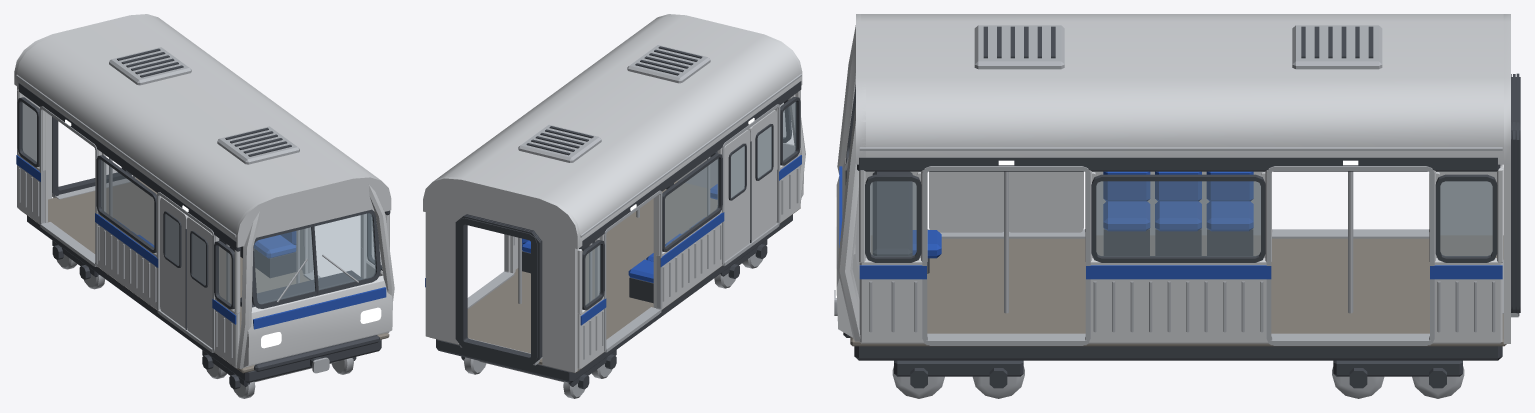
Rendered from MetroCab.glb.
The picture shows the model from 3 angles, left to right: view 1: azimuth 30°, elevation 25°; view 2: azimuth 150°, elevation 25°; view 3: azimuth 270°, elevation 25°; orthographic projection. The views are drawn at different scales.
Parts seen in each view (by area): view 1: MetroCab_TrainBody, MetroCab_TrainDark, MetroCab_Glass, MetroCab_Stainless, MetroCab_Granite, MetroCab_Stripe, MetroCab_Seat, MetroCab_GlowWarm; view 2: MetroCab_TrainBody, MetroCab_TrainDark, MetroCab_Stainless, MetroCab_Granite, MetroCab_Glass, MetroCab_Stripe, MetroCab_Seat; view 3: MetroCab_TrainBody, MetroCab_TrainDark, MetroCab_Granite, MetroCab_Stainless, MetroCab_Glass, MetroCab_Seat, MetroCab_Stripe.
Part boxes in pixels (x1,y1,x2,y2): MetroCab_TrainBody: (14, 14, 394, 368); MetroCab_TrainDark: (17, 48, 390, 389); MetroCab_Glass: (22, 102, 382, 304); MetroCab_Stainless: (16, 47, 362, 398); MetroCab_Granite: (20, 178, 389, 373); MetroCab_Stripe: (16, 155, 386, 329); MetroCab_Seat: (114, 218, 296, 258); MetroCab_GlowWarm: (65, 119, 381, 348); MetroCab_TrainBody: (423, 14, 805, 372); MetroCab_TrainDark: (436, 46, 801, 389); MetroCab_Stainless: (460, 45, 801, 398); MetroCab_Granite: (430, 181, 800, 372); MetroCab_Glass: (585, 102, 796, 305); MetroCab_Stripe: (425, 155, 801, 325); MetroCab_Seat: (522, 184, 717, 282); MetroCab_TrainBody: (836, 14, 1510, 343); MetroCab_TrainDark: (843, 26, 1520, 388); MetroCab_Granite: (850, 235, 1506, 346); MetroCab_Stainless: (834, 25, 1518, 398); MetroCab_Glass: (870, 181, 1492, 256); MetroCab_Seat: (912, 171, 1253, 258); MetroCab_Stripe: (839, 166, 1502, 279).
Bounding box in the file's own units: 10 × 13.34 × 25.92.
